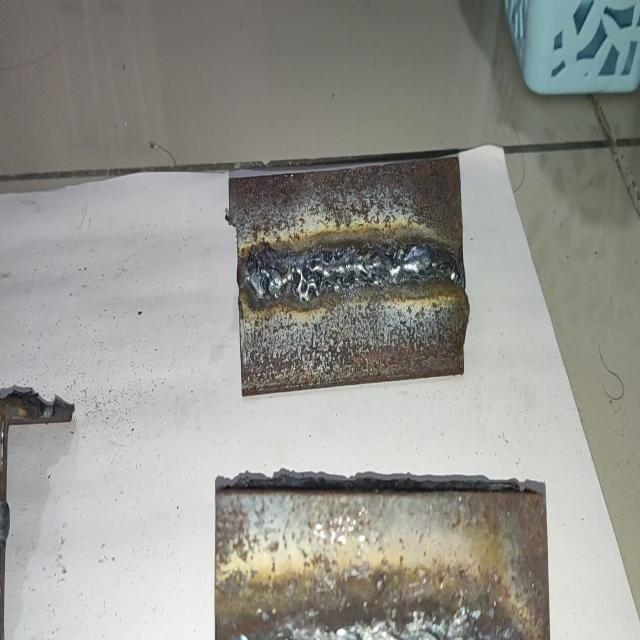Bad Weld: (242, 241, 458, 299)
Defect: (242, 234, 413, 305), (288, 605, 518, 640)
